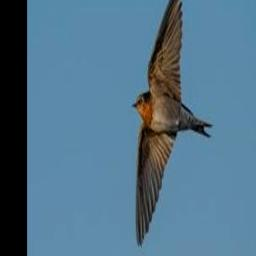Swallow: (131, 0, 212, 247)
